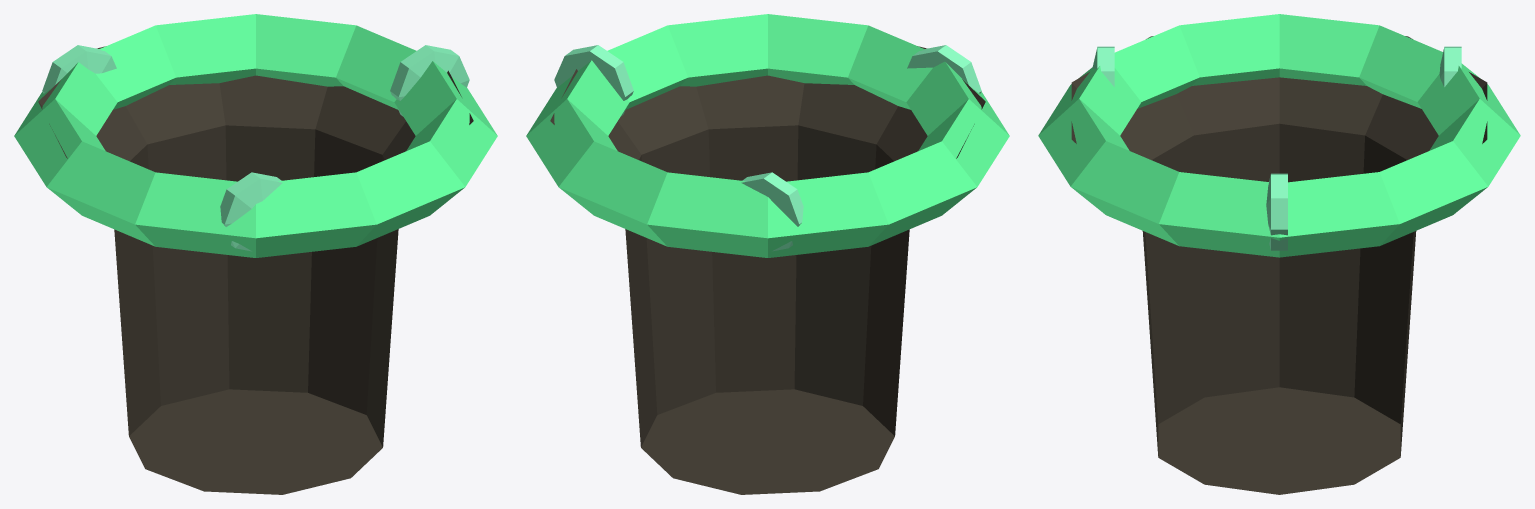
The model's file is spatial_rim.obj.
3 views of the same model, side by side, from view 1: azimuth 30°, elevation 25°; view 2: azimuth 150°, elevation 25°; view 3: azimuth 270°, elevation 25° (orthographic).
Parts seen in each view (by area): view 1: spatial_neck, spatial_rim, rim_glint_0, rim_glint_1, rim_glint_2; view 2: spatial_neck, spatial_rim, rim_glint_0, rim_glint_2, rim_glint_1; view 3: spatial_neck, spatial_rim, rim_glint_0, rim_glint_2, rim_glint_1.
Boxes of the visible parts, x1,y1,x2,y2 form: spatial_neck: (38, 46, 473, 494); spatial_rim: (14, 14, 497, 257); rim_glint_0: (390, 45, 469, 116); rim_glint_1: (220, 172, 282, 251); rim_glint_2: (42, 45, 116, 93); spatial_neck: (550, 46, 985, 494); spatial_rim: (526, 14, 1009, 257); rim_glint_0: (554, 45, 633, 116); rim_glint_2: (741, 172, 803, 251); rim_glint_1: (907, 45, 981, 93); spatial_neck: (1071, 36, 1487, 494); spatial_rim: (1038, 14, 1520, 257); rim_glint_0: (1266, 173, 1287, 250); rim_glint_2: (1439, 46, 1461, 86); rim_glint_1: (1092, 46, 1114, 86).
Bounding box in the file's own units: 0.53 × 0.425 × 0.53.
